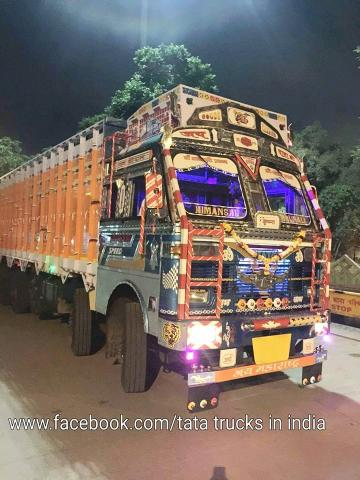truck: (0, 82, 334, 415)
